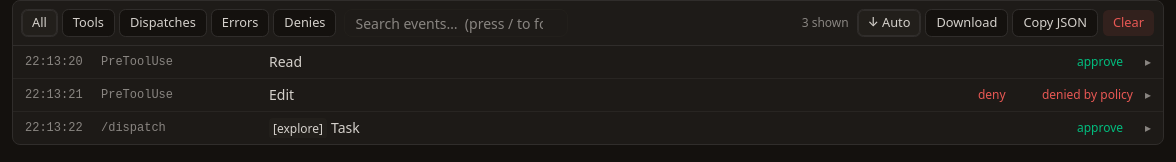
Test: EventsTab: filter persistence (P2-5) › filter chip selection updates and persists through store
Check: the element with test id "events-list" is shown, box x1=13 y1=46 x2=1163 y2=144
Click the button with test id "events-filter-errors". click: [240, 23]
box: x1=211 y1=9 x2=269 y2=37
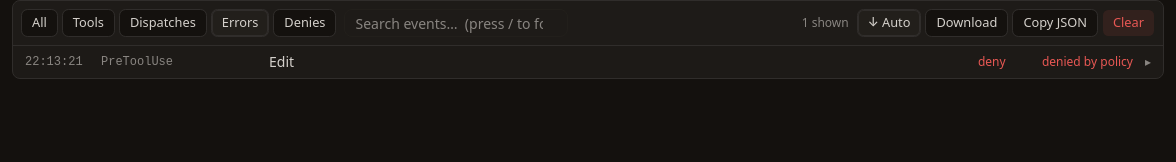
Check: the number of buttons with test id "event-row" is 1, box x1=13 y1=46 x2=1163 y2=78
